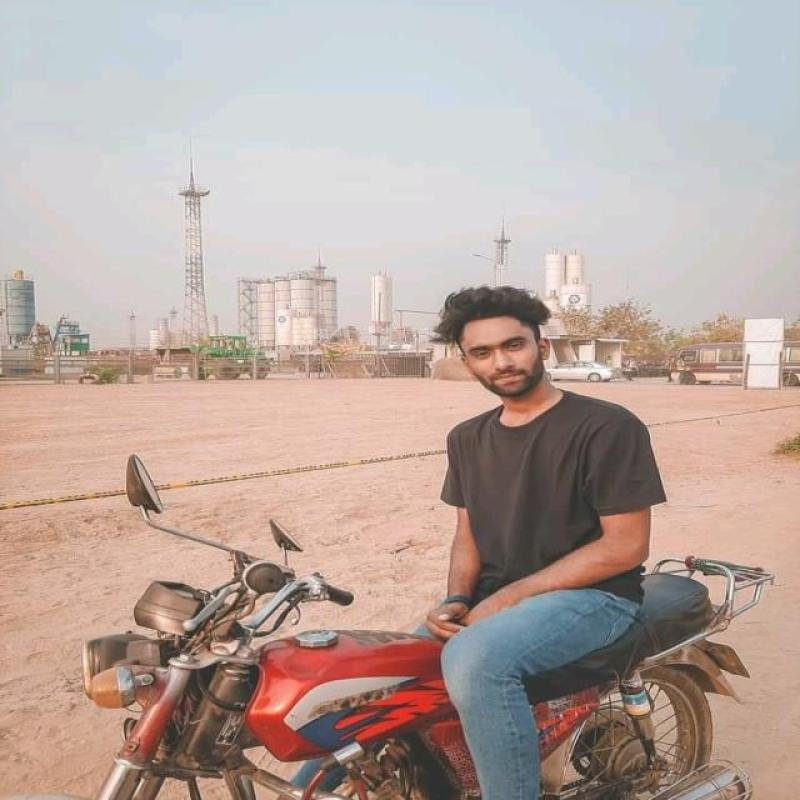nohelmet: (430, 284, 564, 400)
